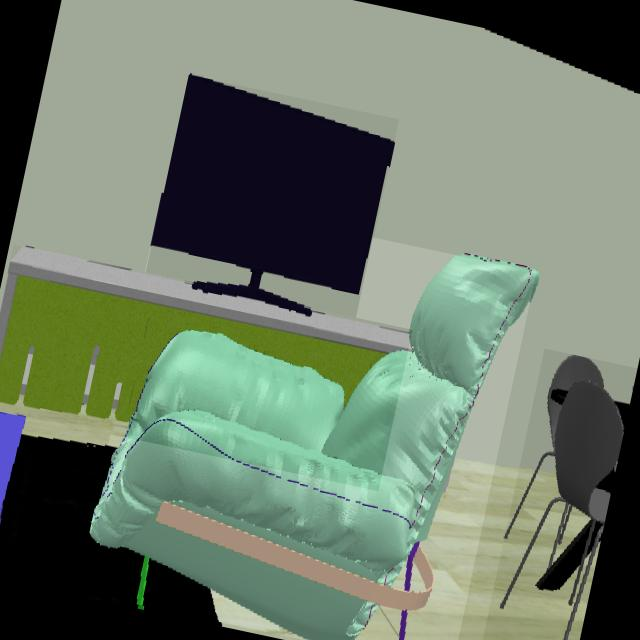chair: (499, 355, 623, 640)
countertop: (0, 247, 410, 422)
monitor: (152, 74, 393, 315)
sofa: (90, 256, 535, 640)
